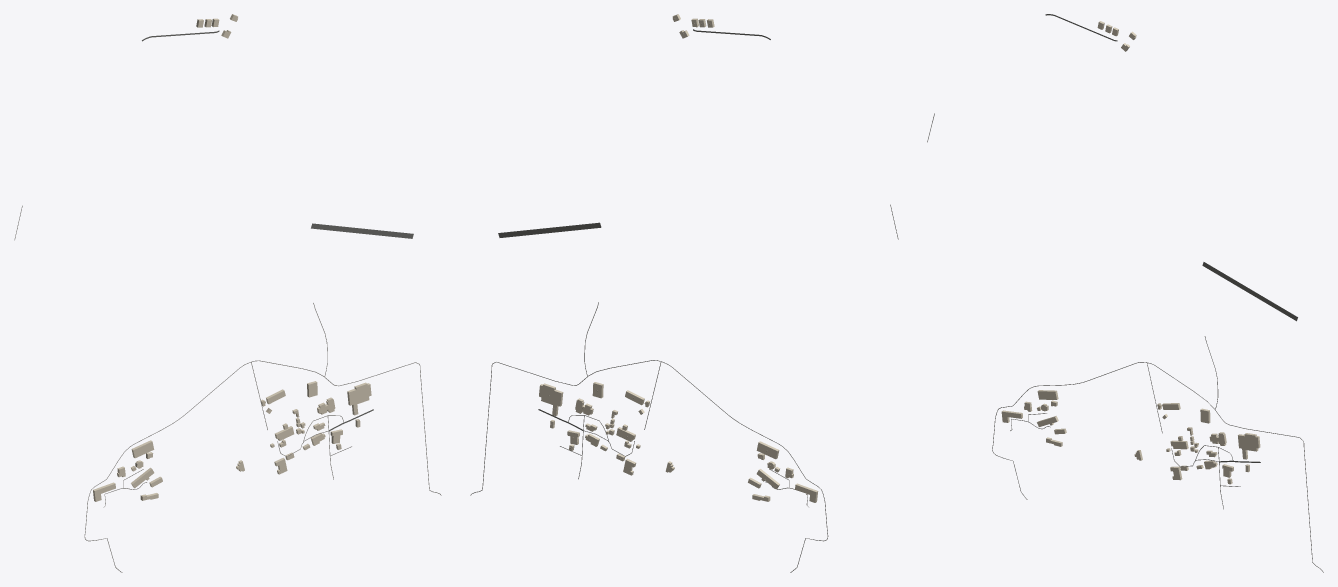
Rendered from historic-palestine-07_25_3492_3196.glb.
3 renders of one model, left to right at view 1: azimuth 30°, elevation 25°; view 2: azimuth 150°, elevation 25°; view 3: azimuth 330°, elevation 25°, orthographic. The views are drawn at different scales.
Visible parts, largest first — view 1: Road .004, Road כביש ירושלים תל אביב; view 2: Road .004, Road כביש ירושלים תל אביב; view 3: Road .004, Road כביש ירושלים תל אביב.
Part boxes in pixels (<box>): Road .004: <box>84,360,441,572</box>; Road כביש ירושלים תל אביב: <box>311,223,413,238</box>; Road .004: <box>470,360,828,572</box>; Road כביש ירושלים תל אביב: <box>498,222,601,237</box>; Road .004: <box>992,362,1323,572</box>; Road כביש ירושלים תל אביב: <box>1202,262,1297,321</box>.
Bounding box in the file's own units: 1076 × 1286 × 8.7.
